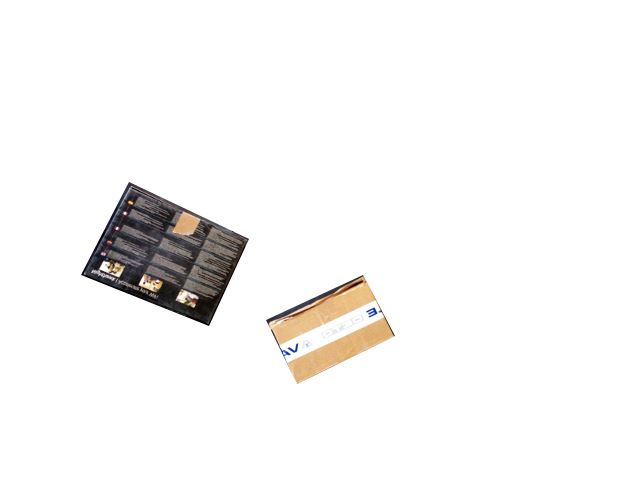cardboard: (84, 186, 248, 325), (267, 275, 393, 383)
